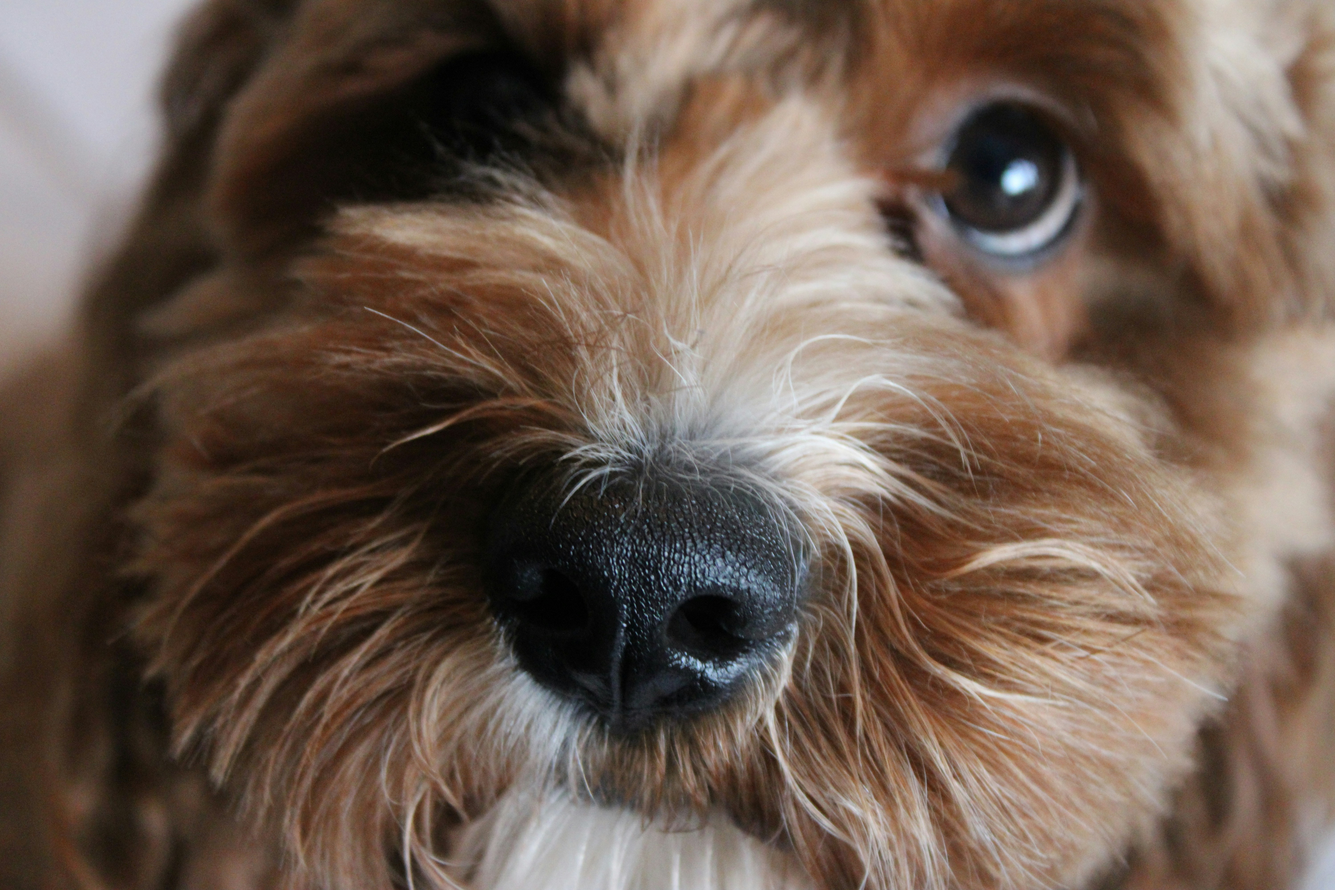dog-nose-detector: (481, 466, 807, 729)
